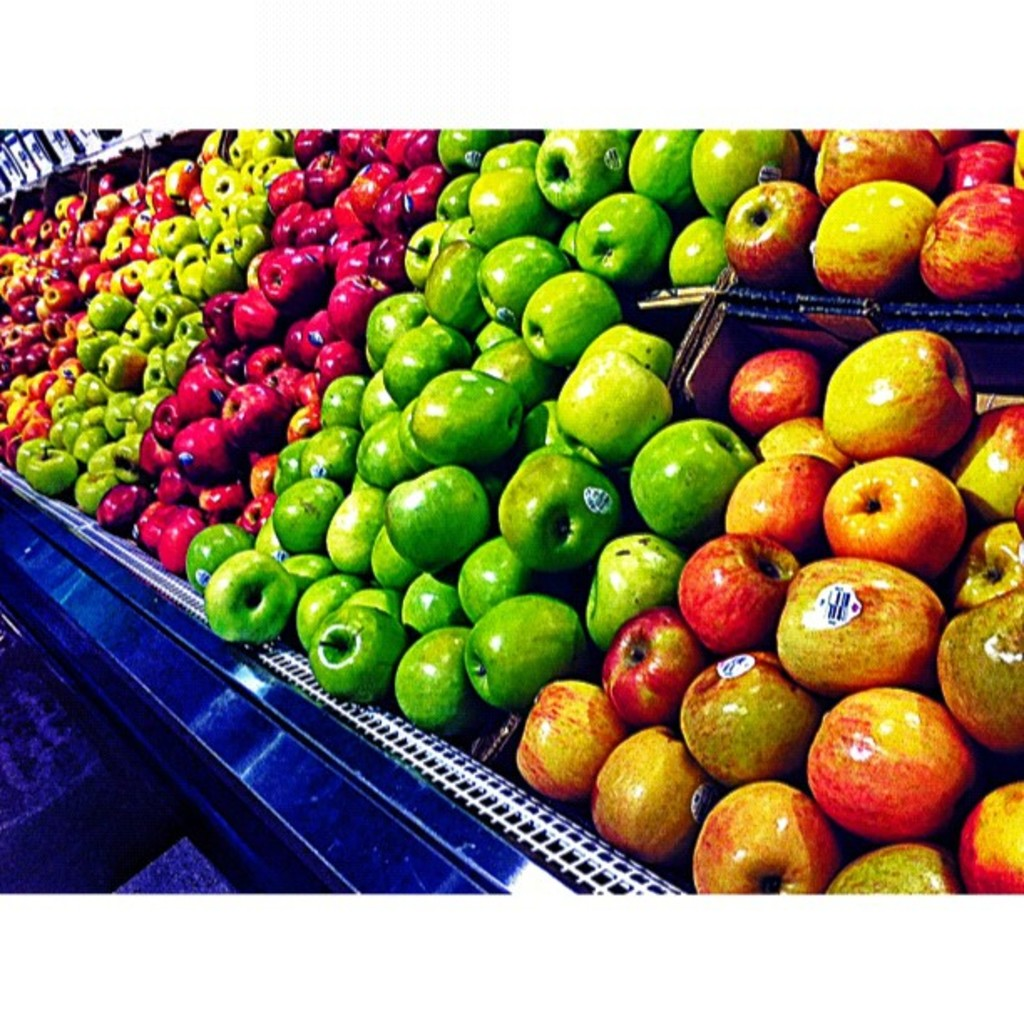Apple: (3, 122, 1022, 896), (686, 660, 831, 771)
